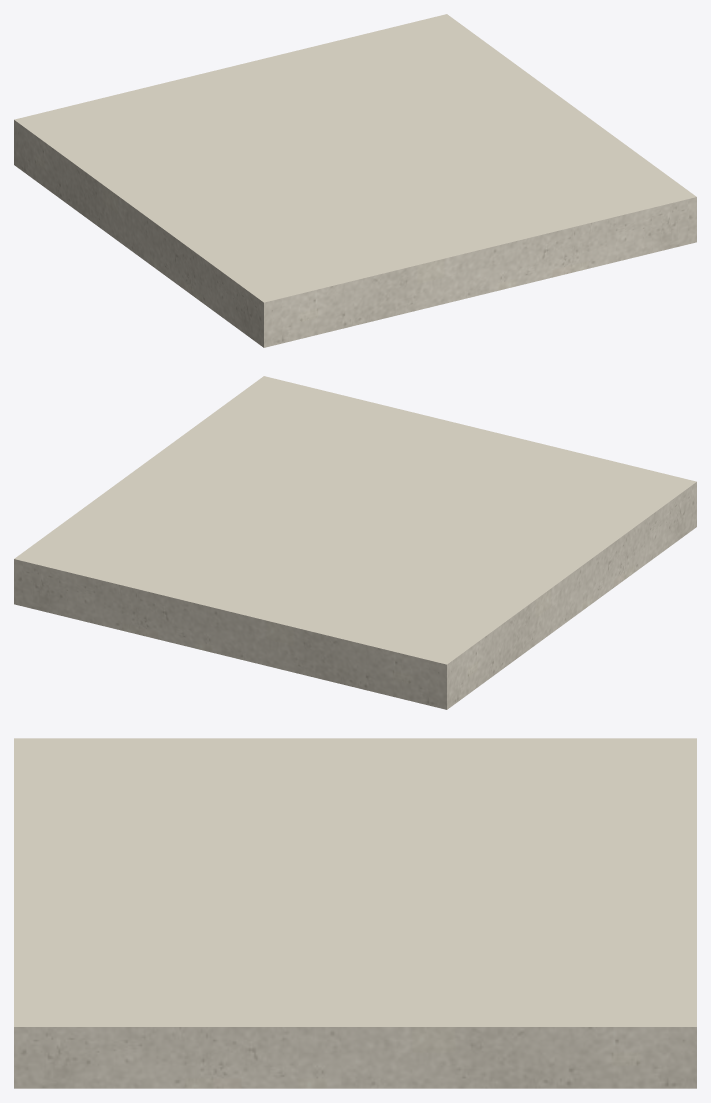
The model's file is ceiling_tin.glb.
3 views of the same model, one above another, from view 1: azimuth 30°, elevation 25°; view 2: azimuth 150°, elevation 25°; view 3: azimuth 270°, elevation 25° (orthographic). The views are drawn at different scales.
Visible parts, largest first — view 1: ceiling_tin_plaster; view 2: ceiling_tin_plaster; view 3: ceiling_tin_plaster.
Boxes of the visible parts, x1,y1,x2,y2 form: ceiling_tin_plaster: (14, 14, 696, 347); ceiling_tin_plaster: (14, 376, 696, 709); ceiling_tin_plaster: (14, 738, 696, 1088).
Size of the model in its own units: 2 by 0.212 by 2.
Materials: 1 (1 with a texture image).
